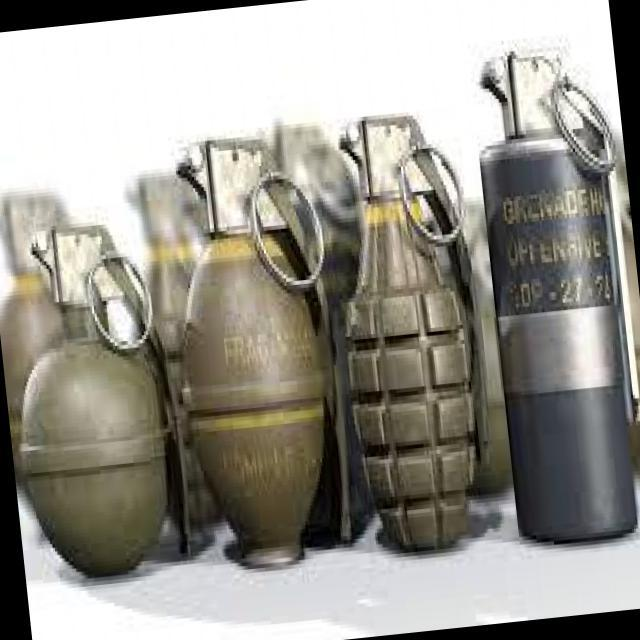grenade: (155, 120, 363, 580), (464, 39, 640, 550), (320, 91, 504, 526), (0, 206, 183, 583)
